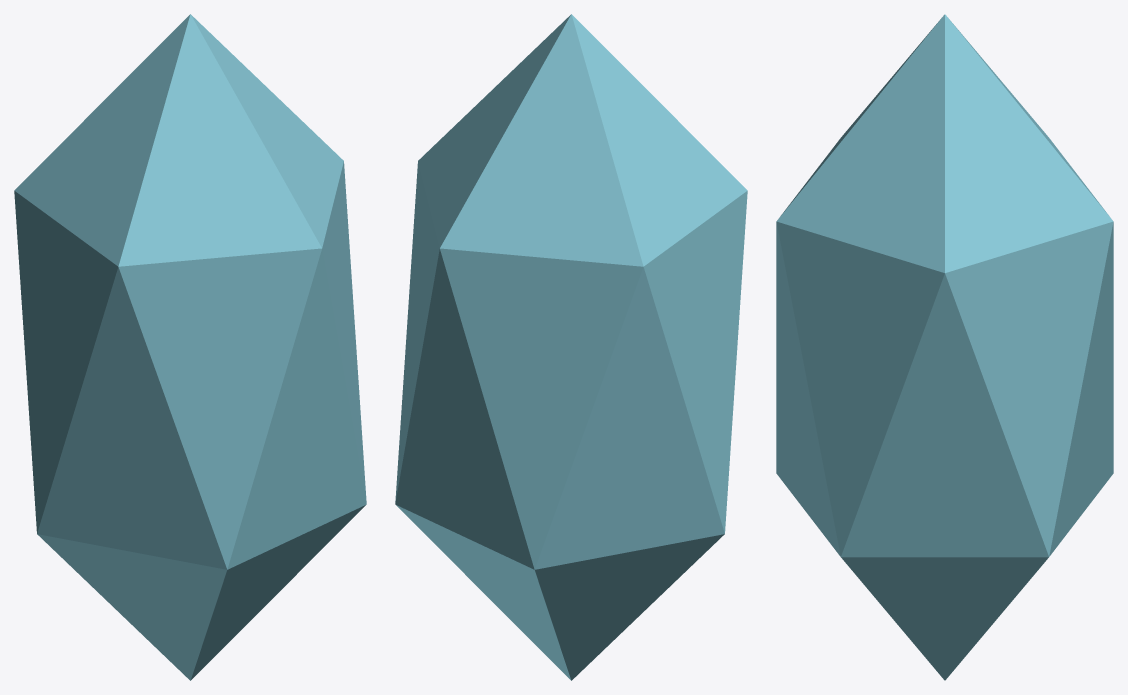
Rendered from starshard.glb.
The picture shows the model from 3 angles, left to right: view 1: azimuth 30°, elevation 25°; view 2: azimuth 150°, elevation 25°; view 3: azimuth 270°, elevation 25°; orthographic projection.
Visible parts, largest first — view 1: Starshard; view 2: Starshard; view 3: Starshard.
Part boxes in pixels (box(x1,y1,x2,y2)): Starshard: box(14, 14, 366, 680); Starshard: box(395, 14, 747, 680); Starshard: box(776, 14, 1113, 680).
Bounding box in the file's own units: 0.7513 × 1.56 × 0.7145.
